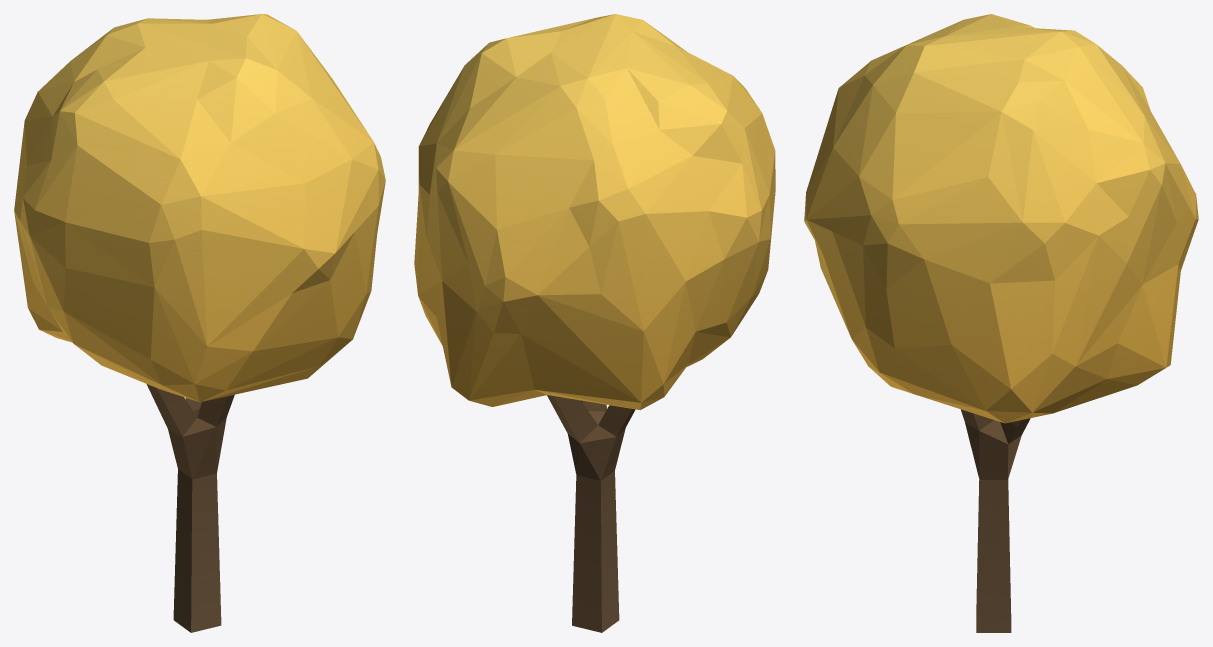
The model's file is medium-tree-1.glb.
3 views of the same model, side by side, from view 1: azimuth 30°, elevation 25°; view 2: azimuth 150°, elevation 25°; view 3: azimuth 270°, elevation 25° (orthographic).
Visible parts, largest first — view 1: medium-tree-1; view 2: medium-tree-1; view 3: medium-tree-1.
Boxes of the visible parts, left/top/right/bottom form: medium-tree-1: left=14, top=14, right=385, bottom=632; medium-tree-1: left=414, top=14, right=775, bottom=632; medium-tree-1: left=804, top=14, right=1198, bottom=632.
Bounding box in the file's own units: 0.1757 × 0.2982 × 0.1818.
Materials: 1 (1 with a texture image).
